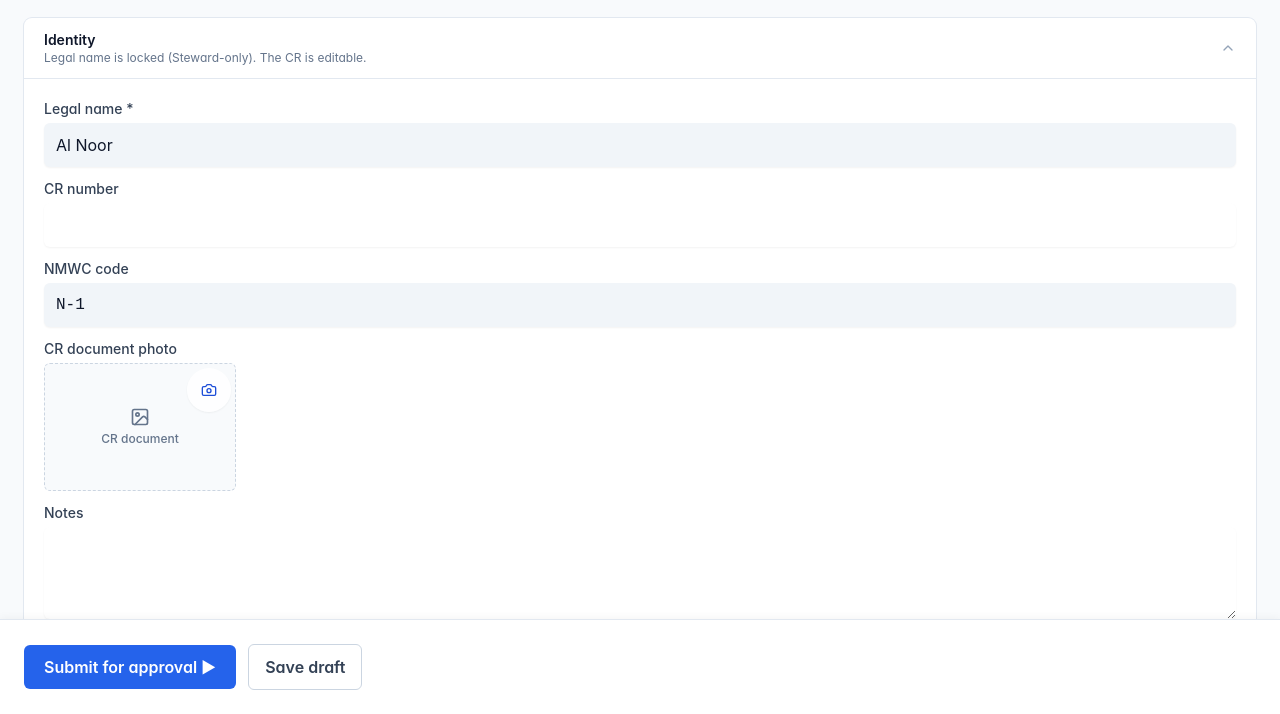
Test: the customer update form › after "No answer", a changed form sent while offline keeps the doubt about the earlier send
This screenshot has width=1280, height=714.
Click the button "Submit for approval ▶". click: (130, 667)
box: [24, 645, 236, 689]
(page scrolled)
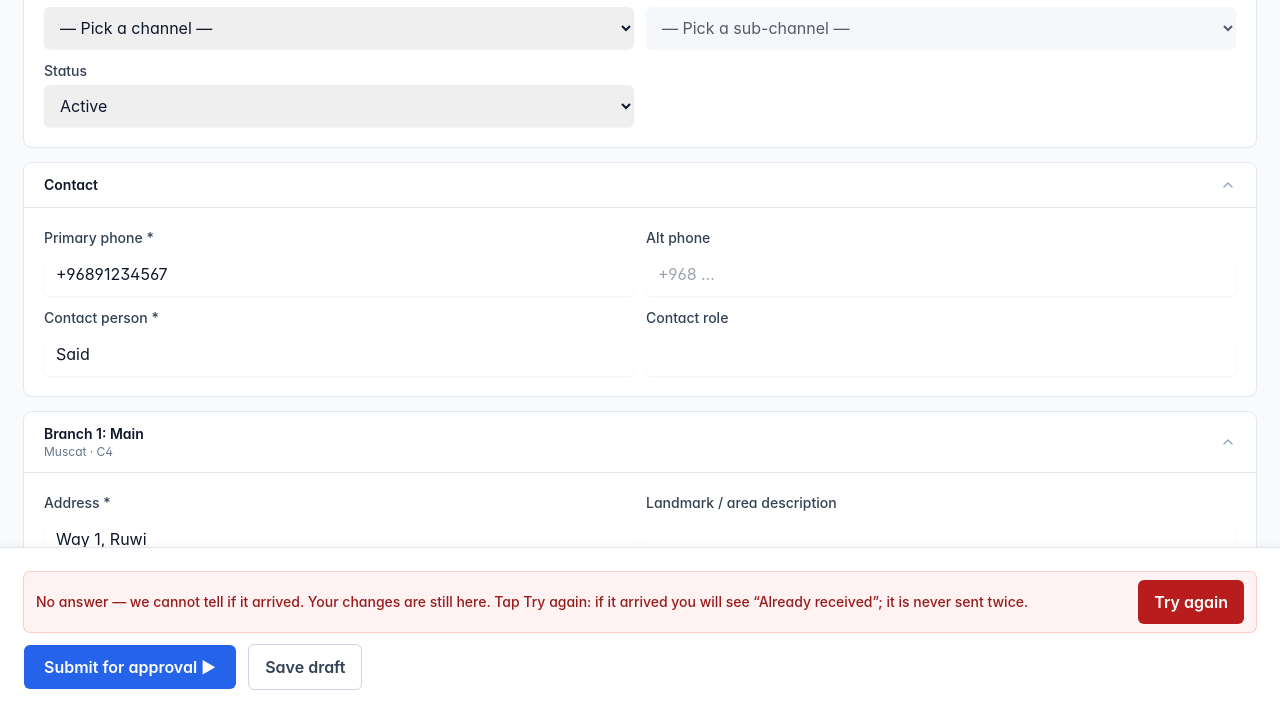
expect the button "Try again" is shown: met, box [1138, 580, 1244, 624]
Replace the text in the field showing "Said" with "Said Al Harthy". click: (339, 354)
box: [44, 332, 634, 376]
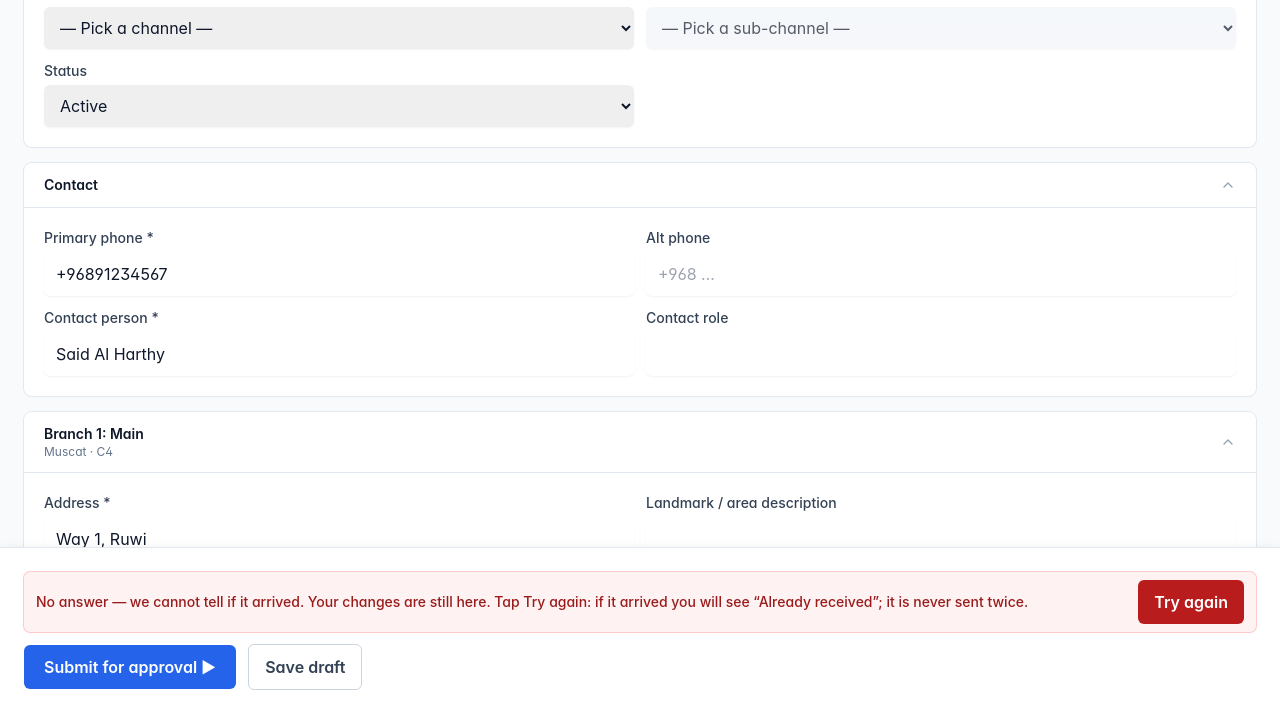
Click the button "Try again". click: (1191, 602)
box: [1138, 580, 1244, 624]
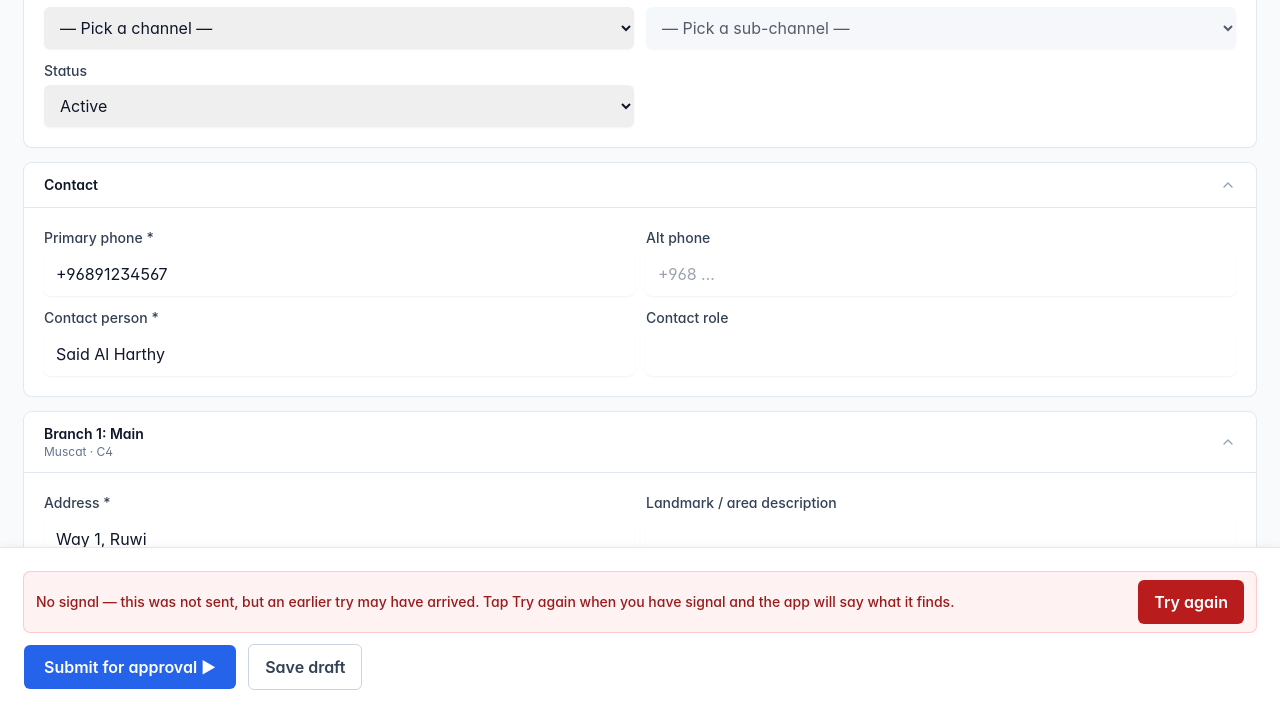
expect the message shows "No signal — this was not sent, but an earlier try may have arrived. Tap Try again when you have signal and the app will say what it finds.": met, box [36, 593, 954, 610]
